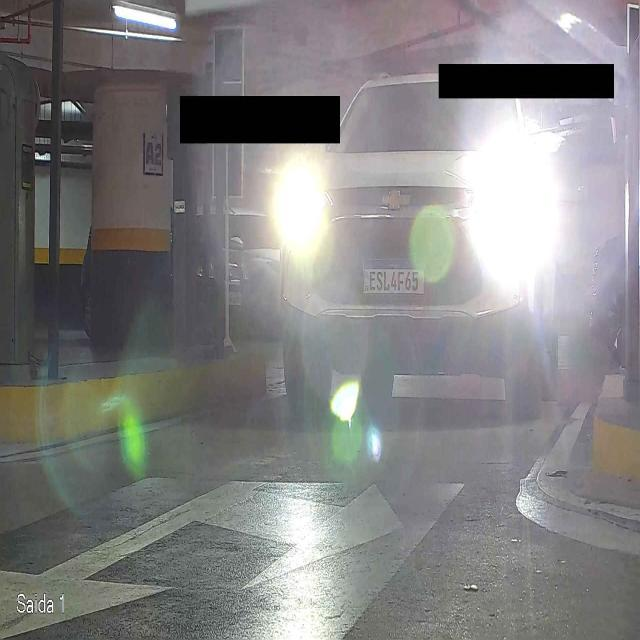mercosul_plate: (361, 255, 426, 297)
